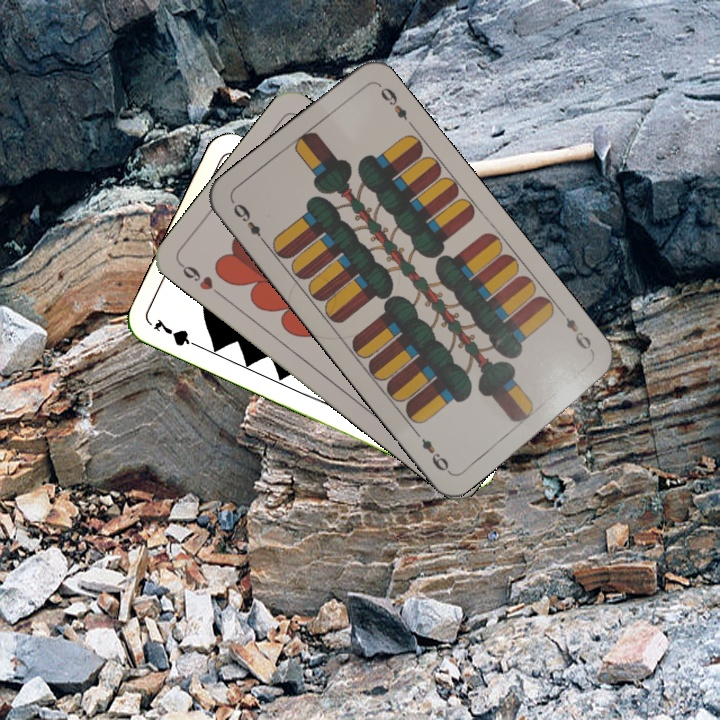E9: (556, 307, 597, 358), (229, 199, 270, 248)
G7: (149, 314, 205, 352)
H9: (176, 259, 226, 300)
